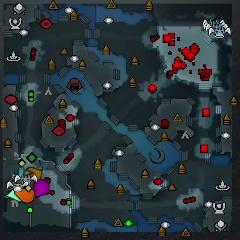p2: (7, 189, 20, 201)
p3: (33, 180, 50, 198)
p5: (15, 187, 33, 202)
x3: (12, 167, 27, 181)
x5: (28, 167, 42, 179)
